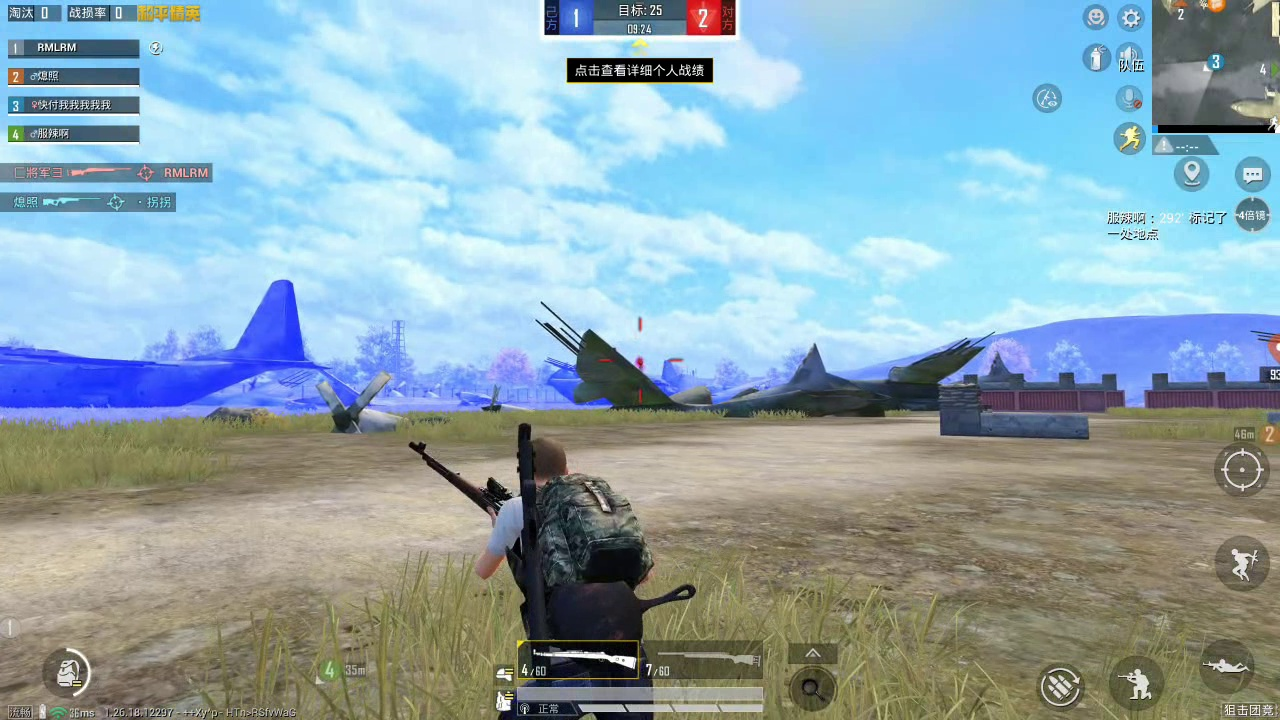enemy: (634, 354, 646, 373)
